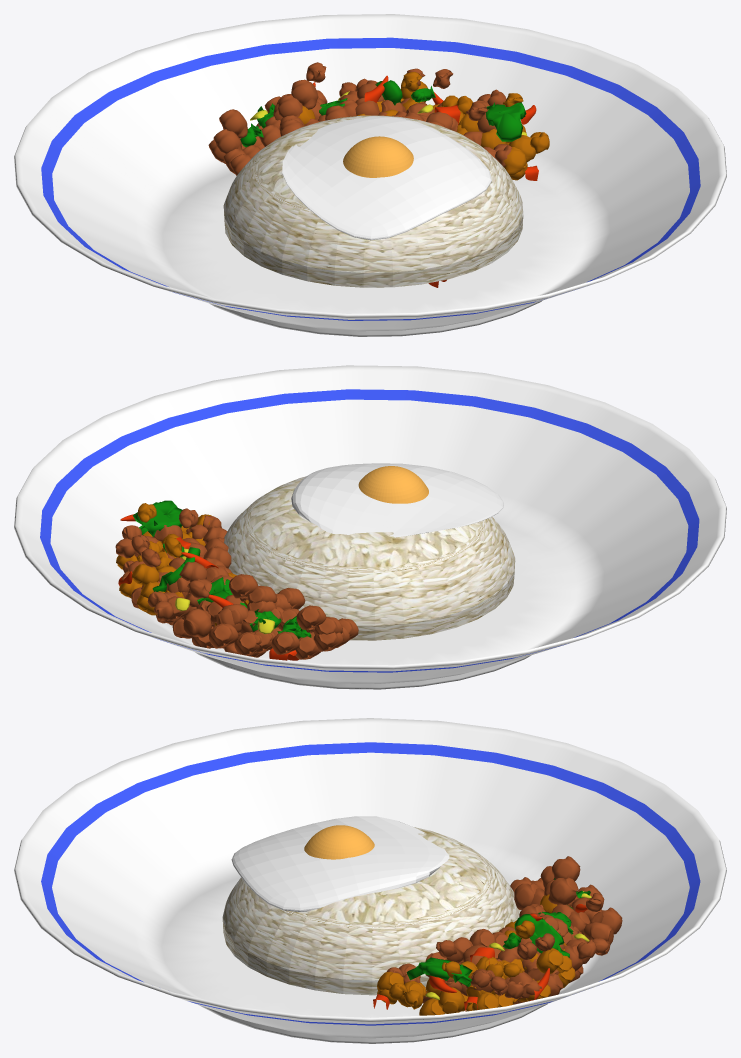
File: Krapao.fbx
3 renders of one model, top to bottom at view 1: azimuth 30°, elevation 25°; view 2: azimuth 150°, elevation 25°; view 3: azimuth 270°, elevation 25°, orthographic.
Parts seen in each view (by area): view 1: Dish.002, rice.002, kaikaw.001, Cube.007, Cube.005, Cube.003, kaidang.001, Cube.004, basil.014, Cube.006, Cube.002; view 2: Dish.002, rice.002, kaikaw.001, Cube.007, Cube.005, Cube.004, Cube.003, kaidang.001, Cube.002, basil.014, Cube.006; view 3: Dish.002, rice.002, kaikaw.001, Cube.003, Cube.007, Cube.005, Cube.002, Cube.004, kaidang.001, Cube.006, basil.014, Krapao.
Boxes of the visible parts, bbox=[...] form: Dish.002: bbox=[14, 14, 726, 336]; rice.002: bbox=[223, 115, 523, 287]; kaikaw.001: bbox=[282, 116, 491, 240]; Cube.007: bbox=[208, 62, 368, 175]; Cube.005: bbox=[273, 68, 425, 136]; Cube.003: bbox=[400, 81, 549, 180]; kaidang.001: bbox=[343, 136, 413, 177]; Cube.004: bbox=[318, 80, 511, 166]; basil.014: bbox=[486, 102, 526, 141]; Cube.006: bbox=[298, 72, 472, 134]; Cube.002: bbox=[400, 69, 506, 132]; Dish.002: bbox=[14, 365, 726, 689]; rice.002: bbox=[224, 476, 515, 640]; kaikaw.001: bbox=[291, 463, 503, 537]; Cube.007: bbox=[147, 580, 358, 659]; Cube.005: bbox=[121, 549, 305, 623]; Cube.004: bbox=[179, 508, 232, 607]; Cube.003: bbox=[116, 503, 221, 615]; kaidang.001: bbox=[358, 466, 428, 503]; Cube.002: bbox=[115, 525, 224, 648]; basil.014: bbox=[133, 500, 190, 537]; Cube.006: bbox=[137, 537, 278, 634]; Dish.002: bbox=[14, 718, 726, 1043]; rice.002: bbox=[222, 827, 520, 995]; kaikaw.001: bbox=[231, 816, 449, 911]; Cube.003: bbox=[377, 948, 575, 1015]; Cube.007: bbox=[510, 856, 622, 963]; Cube.005: bbox=[504, 877, 590, 1004]; Cube.002: bbox=[440, 926, 583, 1003]; Cube.004: bbox=[387, 914, 572, 1003]; kaidang.001: bbox=[304, 825, 374, 859]; Cube.006: bbox=[486, 894, 566, 979]; basil.014: bbox=[406, 957, 472, 986]; Krapao: bbox=[514, 914, 569, 957].
Bounding box in the file's own units: 411 × 80.27 × 411.
Materials: 9 (4 with a texture image).
